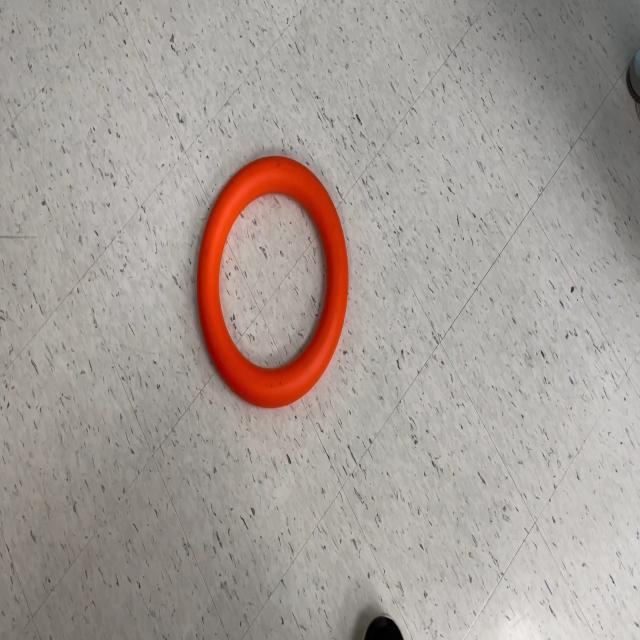note: (197, 154, 349, 409)
